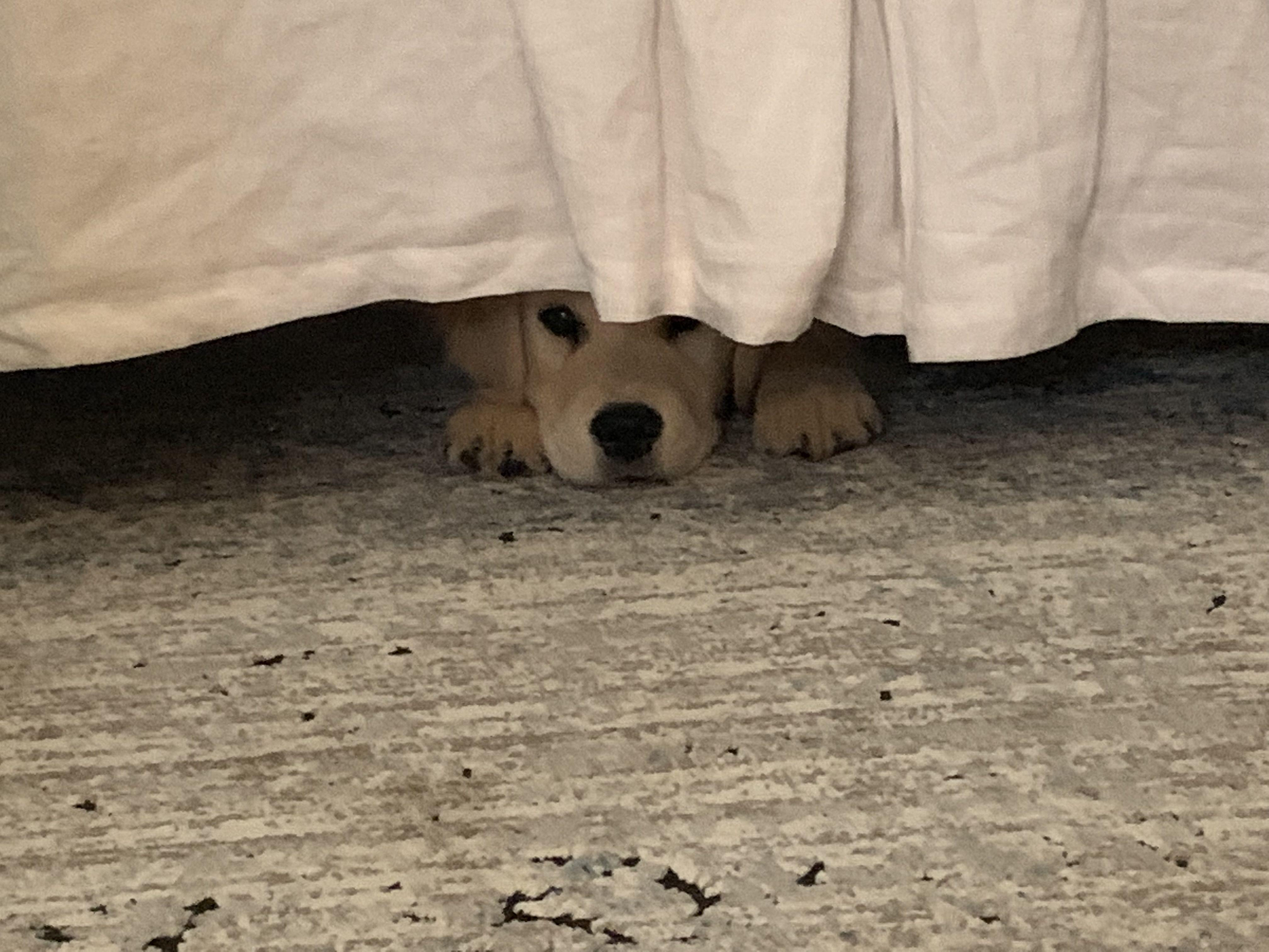puppy-dog: (441, 289, 885, 488)
